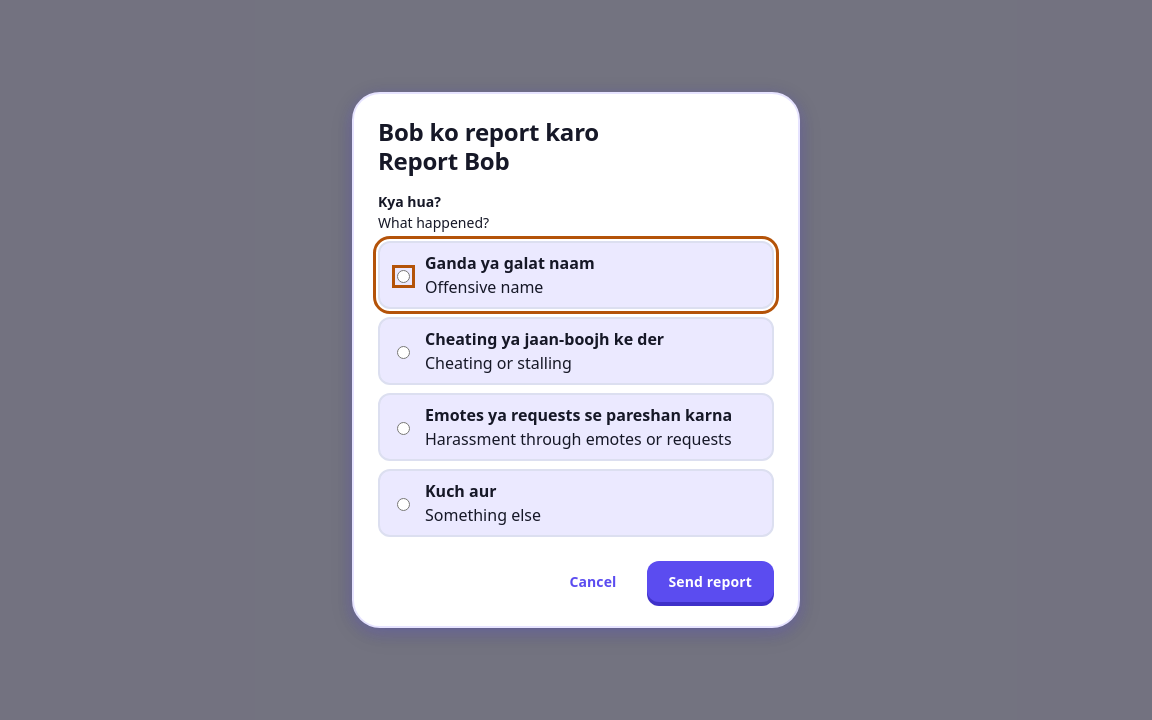
ReportDialog (CC-044) › sends where the two met and the reason, nothing else, then thanks the player without saying what happens
The width and height of the screenshot is (1152, 720).
What coordinates should you click on to do the following:
click the radio button labelled "Cheating ya jaan-boojh ke der Cheating or stalling"
I would click on:
 (404, 353)
Its box is [397,346,410,359].
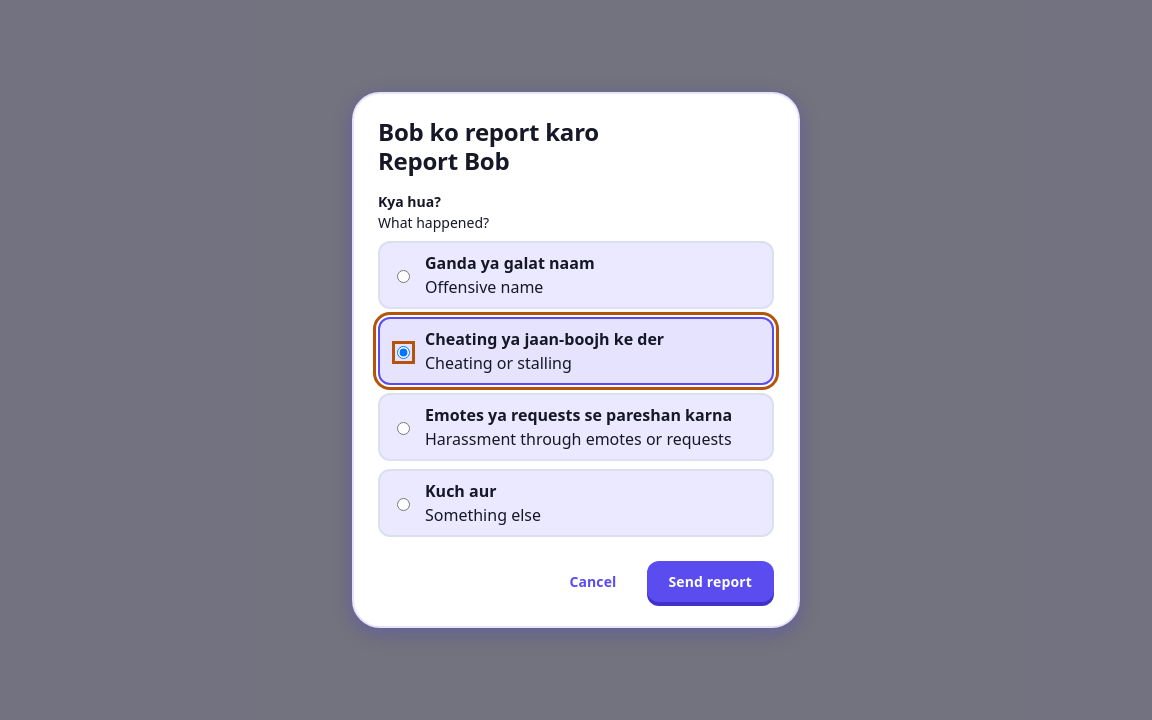
What coordinates should you click on to do the following:
click the button "Send report"
I would click on:
 (710, 582)
Its box is [646,561,774,602].
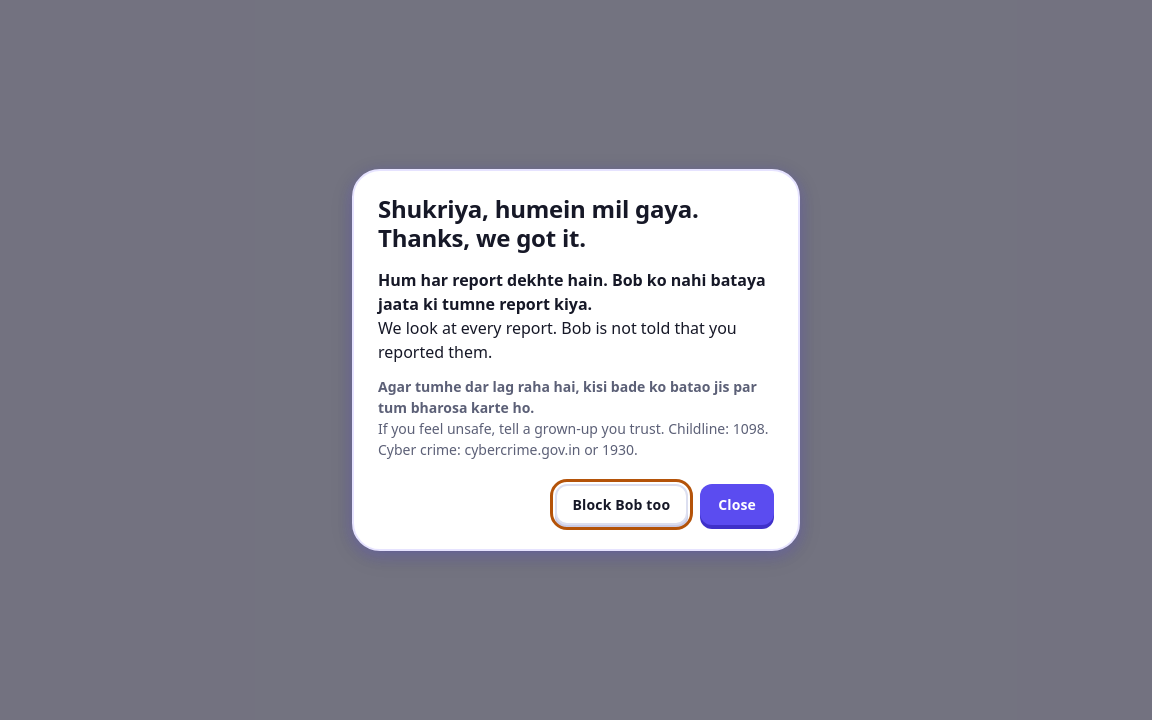
Now the dialog "Thanks, we got it" shows "Bob is not told that you reported them.", box [378,317,737,363]
Now the dialog "Thanks, we got it" shows "Childline: 1098", box [378,419,768,459]
